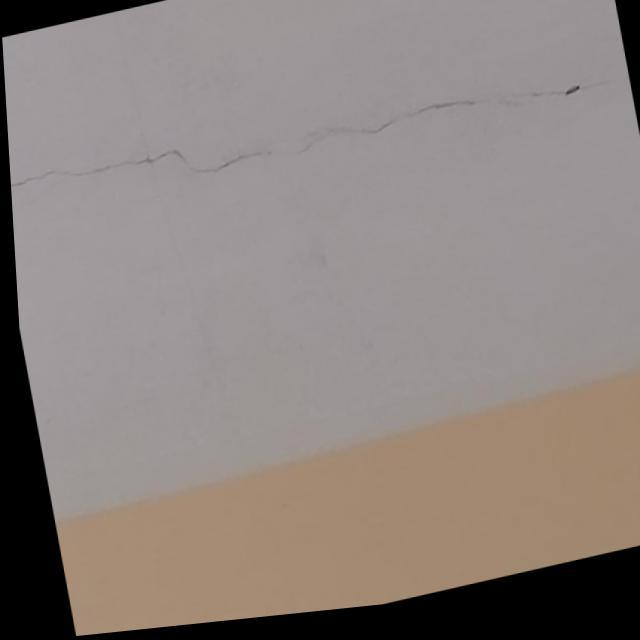Crack: (14, 80, 624, 190)
